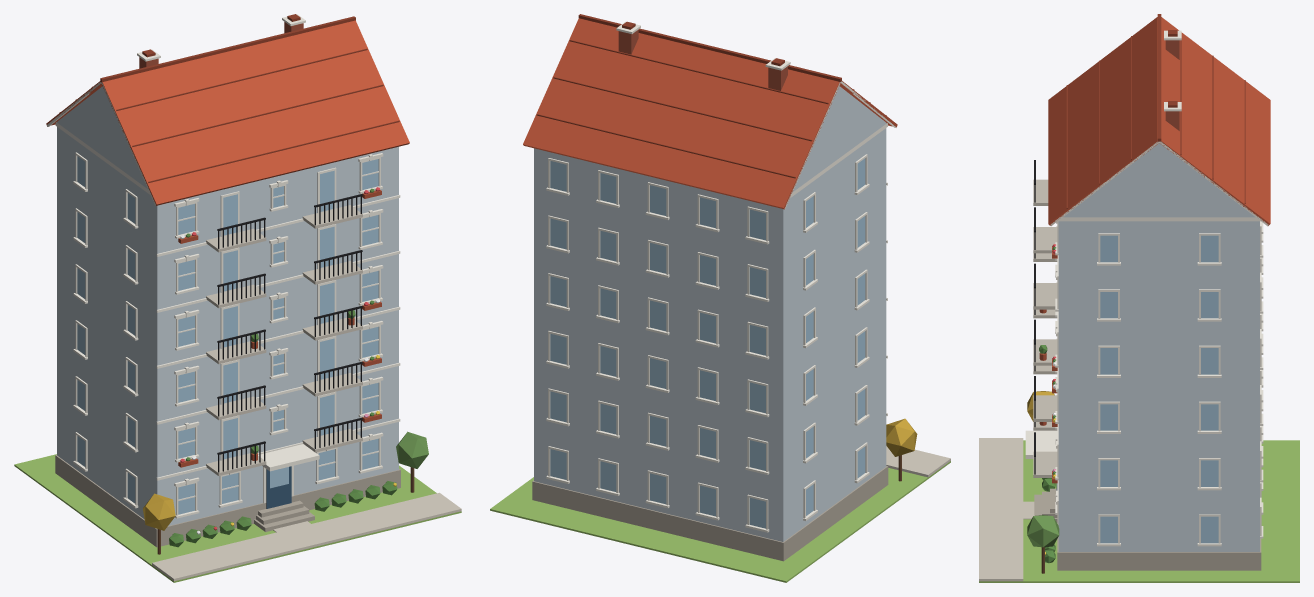
Rendered from Apartman_1_3_Hafif.fbx.
3 views of the same model, side by side, from view 1: azimuth 30°, elevation 25°; view 2: azimuth 150°, elevation 25°; view 3: azimuth 270°, elevation 25° (orthographic). The views are drawn at different scales.
Parts seen in each view (by area): view 1: Apartman_1_3_Hafif; view 2: Apartman_1_3_Hafif; view 3: Apartman_1_3_Hafif.
Boxes of the visible parts, <box> form: Apartman_1_3_Hafif: <box>14,14,461,582</box>; Apartman_1_3_Hafif: <box>490,14,950,582</box>; Apartman_1_3_Hafif: <box>979,14,1299,582</box>.
Bounding box in the file's own units: 15.07 × 22.17 × 14.49.
